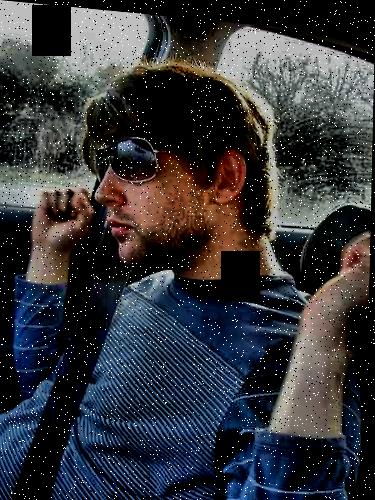seatbelt: (18, 206, 160, 483)
